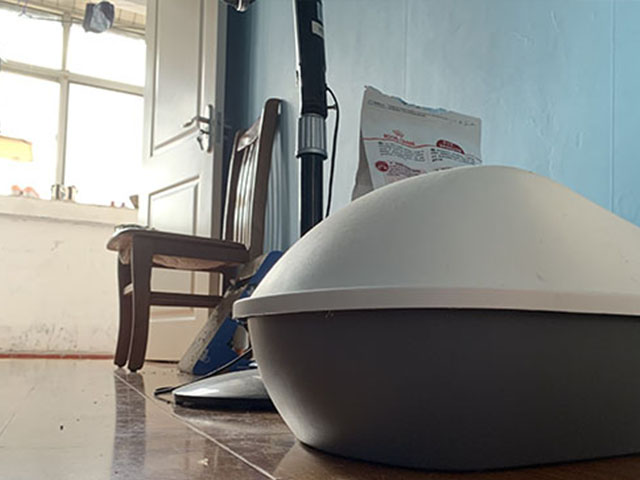stool: (105, 95, 280, 372)
wire: (152, 356, 241, 396)
